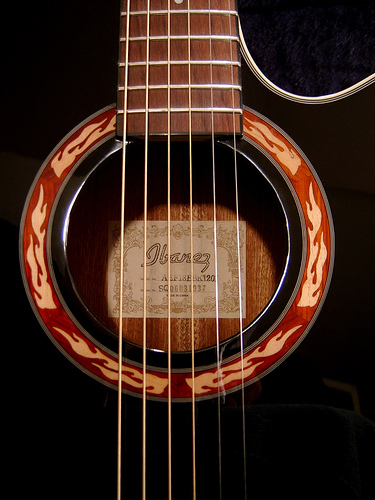guitar: (1, 2, 375, 500)
